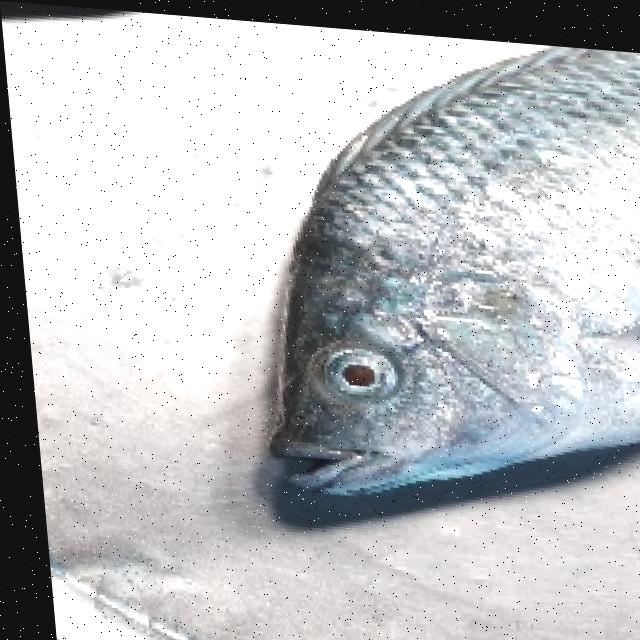Fresh: (221, 45, 640, 527)
